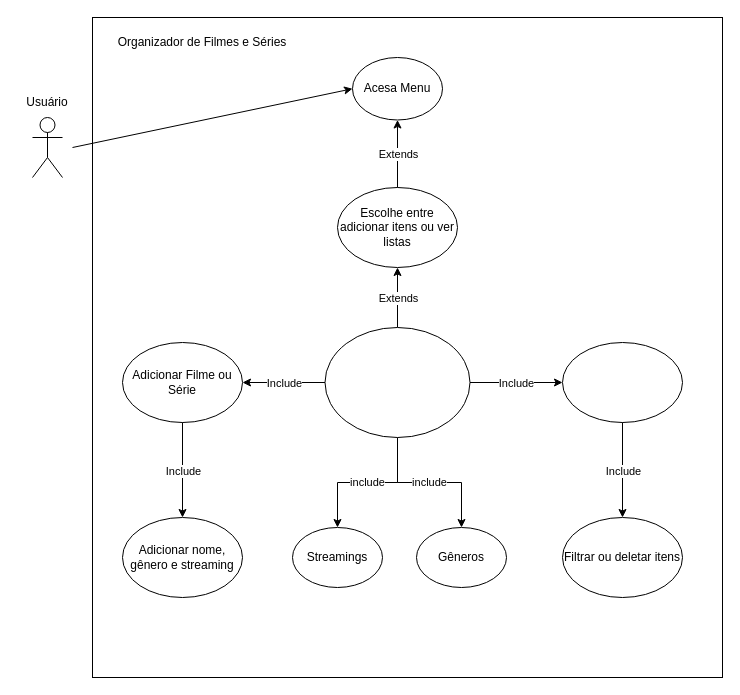
Image size: 740x695. Some labels were removed from this diagram. Here are the shapes that lost their labels. From the top down, the centre of each, then its label:
[47,147]: Actor
[397,382]: Lista de filmes ou séries
[622,382]: Ver lista de filmes ou séries
